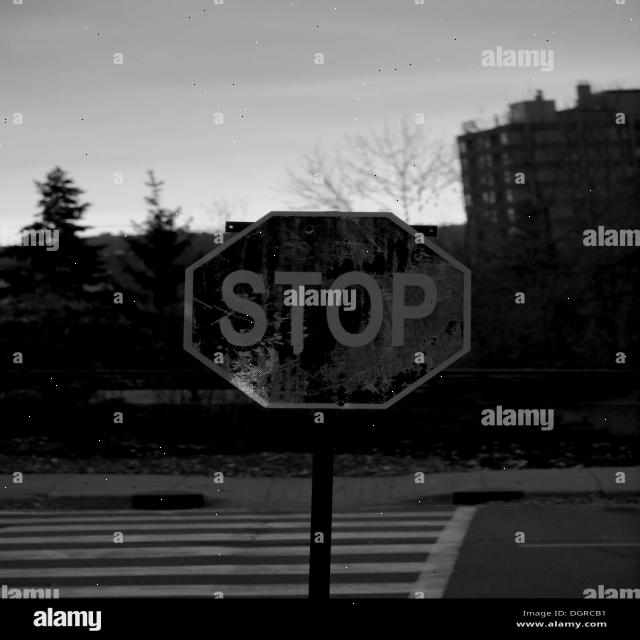Stop-sign: (121, 176, 510, 459)
